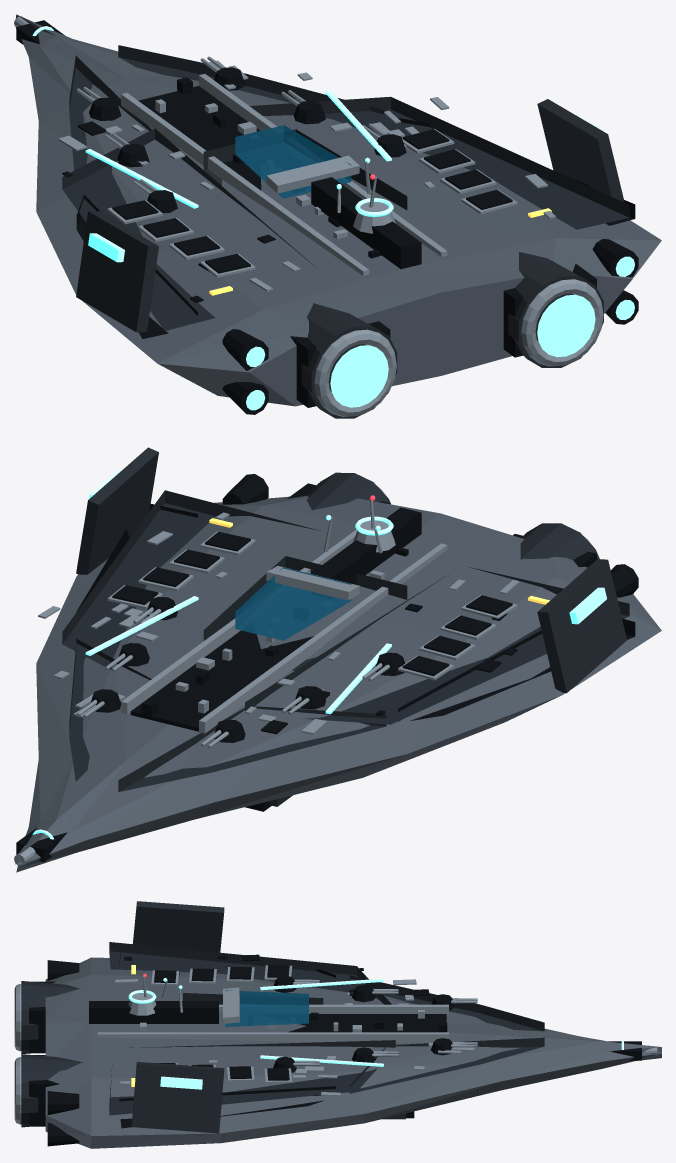
File: afflatus-command.glb
The picture shows the model from 3 angles, top to bottom: view 1: azimuth 30°, elevation 25°; view 2: azimuth 150°, elevation 25°; view 3: azimuth 270°, elevation 25°; orthographic projection. The views are drawn at different scales.
Parts seen in each view (by area): view 1: CommandHull, ArmorPlates, MechanicalRecesses, MachinedEdges, DriveGlow, BridgeCanopy; view 2: CommandHull, ArmorPlates, MechanicalRecesses, MachinedEdges, BridgeCanopy, DriveGlow; view 3: CommandHull, ArmorPlates, MechanicalRecesses, MachinedEdges, BridgeCanopy, DriveGlow.
Boxes of the visible parts, box(x1,y1,x2,y2) form: CommandHull: box(15, 14, 661, 406); ArmorPlates: box(62, 45, 629, 418); MechanicalRecesses: box(16, 20, 638, 414); MachinedEdges: box(14, 16, 603, 416); DriveGlow: box(32, 26, 634, 410); BridgeCanopy: box(235, 125, 351, 198); CommandHull: box(15, 495, 661, 872); ArmorPlates: box(62, 447, 629, 806); MechanicalRecesses: box(16, 474, 638, 862); MachinedEdges: box(14, 487, 599, 865); BridgeCanopy: box(235, 567, 351, 640); DriveGlow: box(32, 469, 606, 839); CommandHull: box(45, 957, 661, 1148); ArmorPlates: box(21, 901, 544, 1133); MechanicalRecesses: box(29, 950, 641, 1146); MachinedEdges: box(14, 965, 657, 1124); BridgeCanopy: box(225, 990, 308, 1026); DriveGlow: box(128, 978, 623, 1089).
Size of the model in its own units: 8.3 by 2.54 by 12.72.
